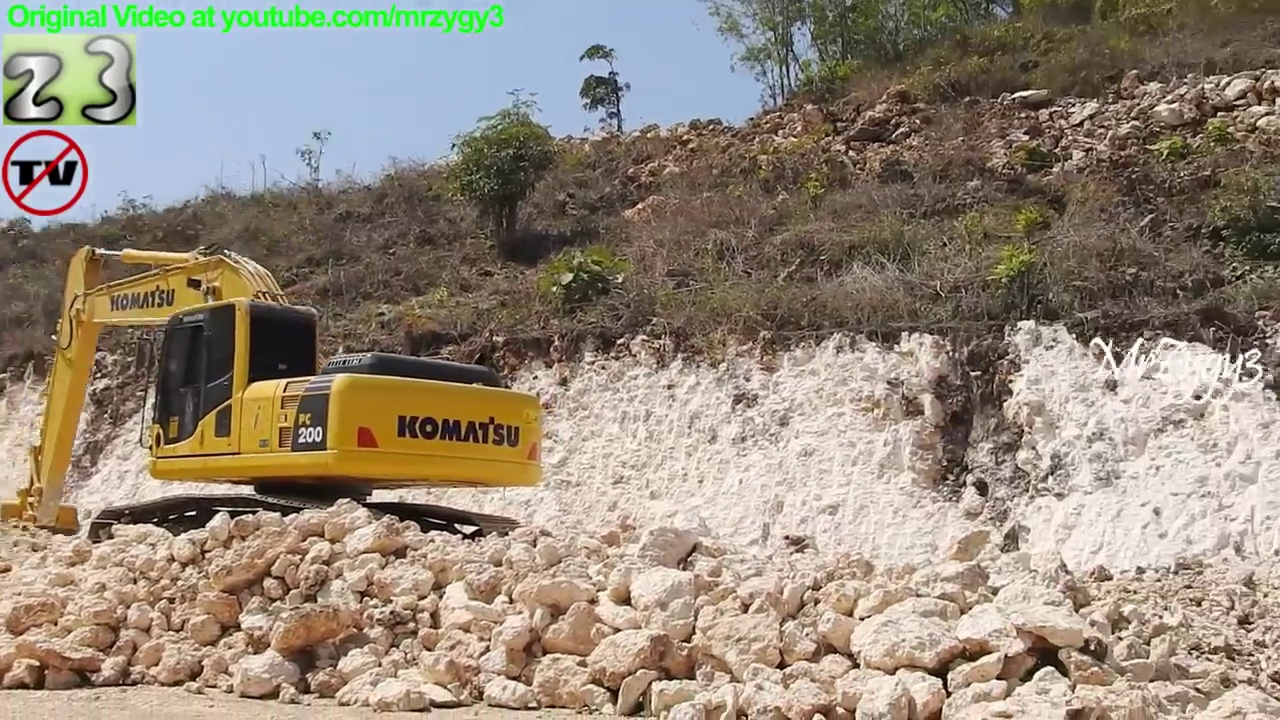excavator: (1, 237, 554, 588)
